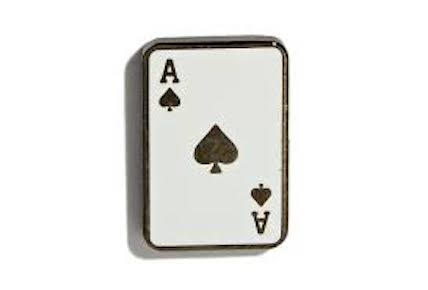AceOfSpades: (131, 36, 296, 257)
